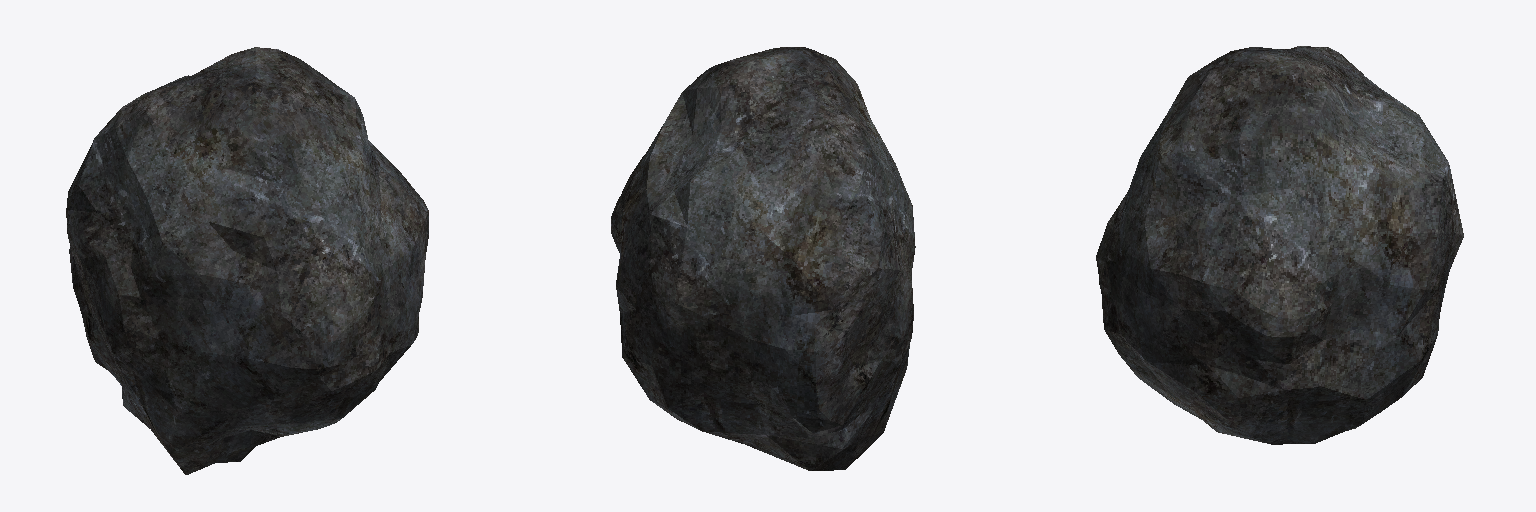
The picture shows the model from 3 angles: view 1: azimuth 30°, elevation 25°; view 2: azimuth 150°, elevation 25°; view 3: azimuth 270°, elevation 25°; orthographic projection.
Parts seen in each view (by area): view 1: st_space_debris_001.mo_rock_01; view 2: st_space_debris_001.mo_rock_01; view 3: st_space_debris_001.mo_rock_01.
Part boxes in pixels (bbox=[...]): st_space_debris_001.mo_rock_01: bbox=[66, 47, 428, 474]; st_space_debris_001.mo_rock_01: bbox=[611, 47, 915, 470]; st_space_debris_001.mo_rock_01: bbox=[1096, 46, 1463, 444].
Bounding box in the file's own units: 13.92 × 17.21 × 14.45.
1 materials, 1 textured.